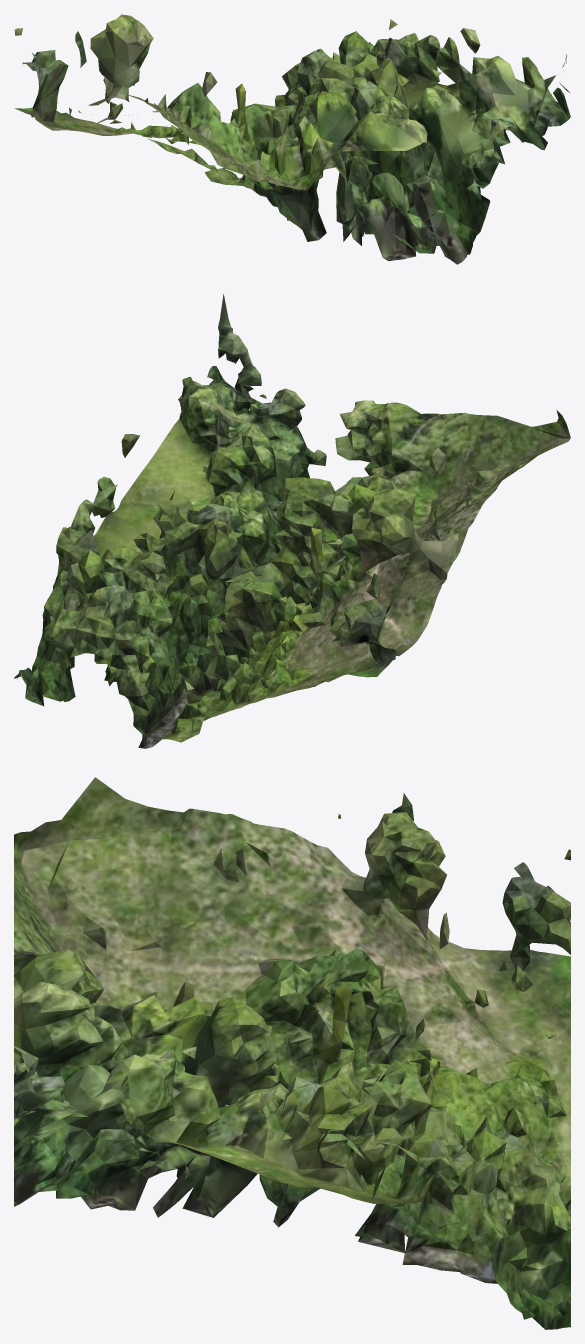
3 views of the same model, one above another, from view 1: azimuth 30°, elevation 25°; view 2: azimuth 150°, elevation 25°; view 3: azimuth 270°, elevation 25° (orthographic). The views are drawn at different scales.
Bounding box in the file's own units: 104 × 74.6 × 104.
6 materials, 6 textured.
